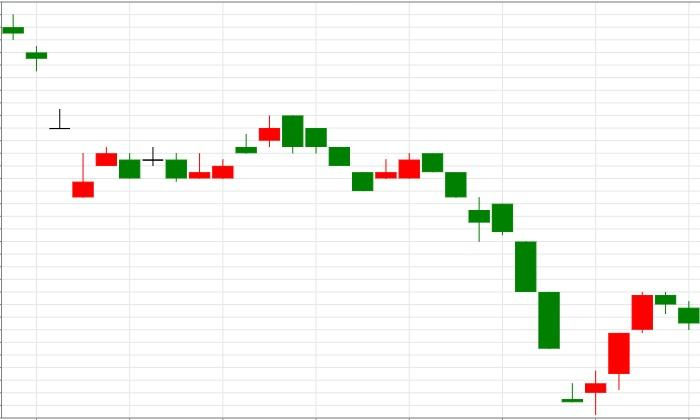three_white_soldiers_rise: (422, 152, 653, 415)
